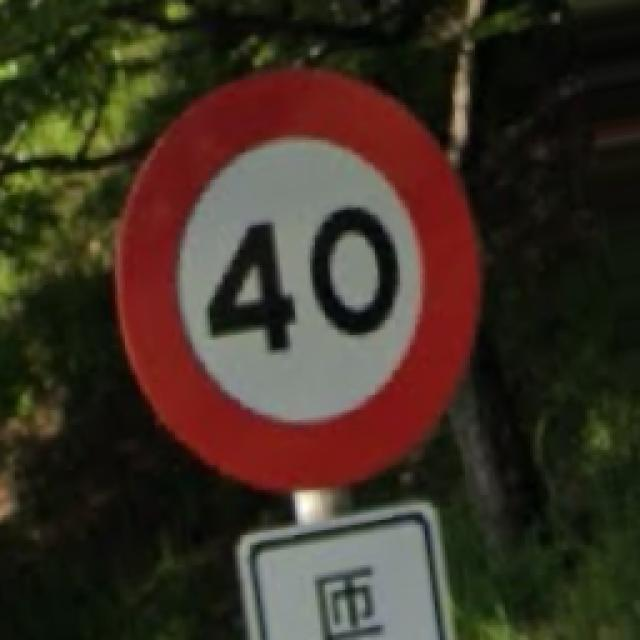Speed Limit -40-: (118, 70, 478, 482)
